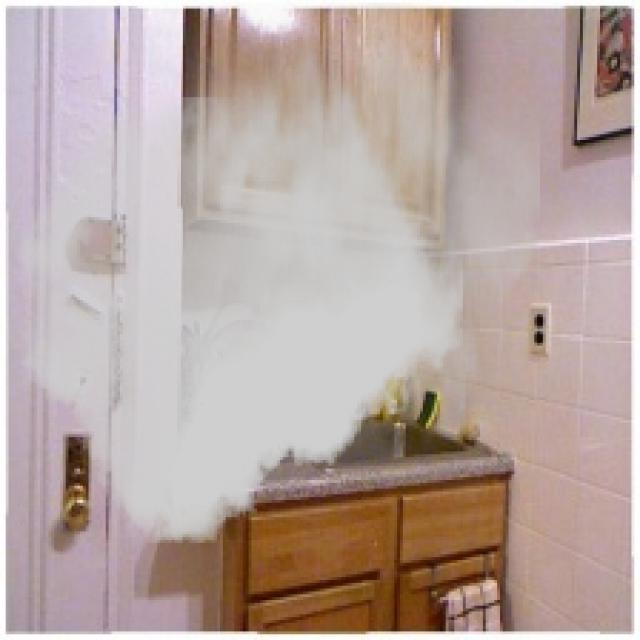smoke: (14, 3, 540, 543)
